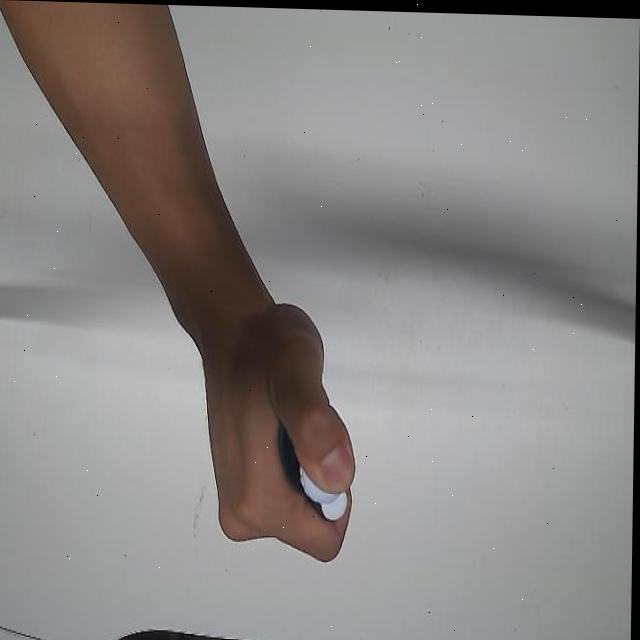Single Channel Pipettor: (279, 385, 356, 524)
